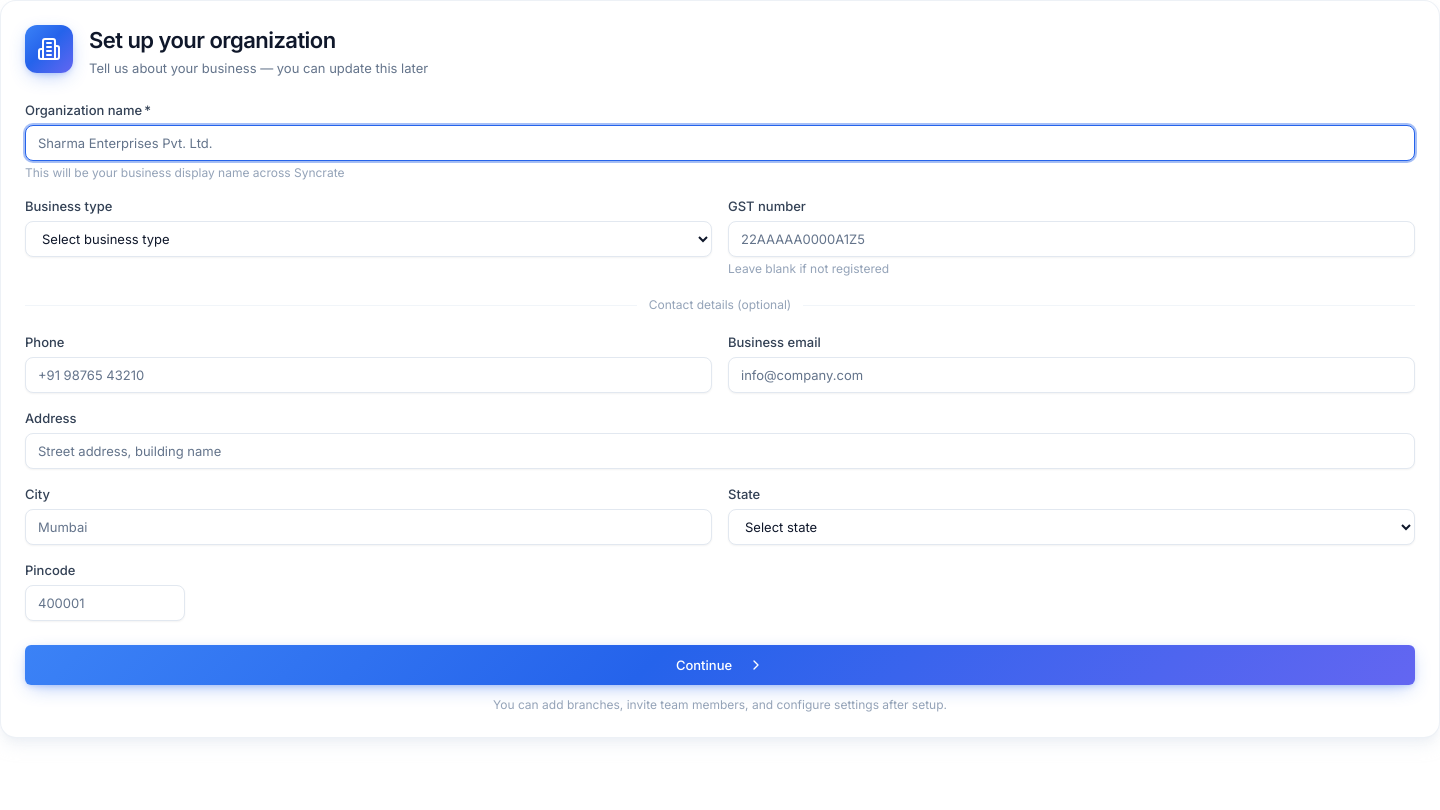
CreateOrganizationForm › shows a validation error and does not submit when the name is too short
The width and height of the screenshot is (1440, 810).
Type "A" into the field labelled "Organization name*" at point(720, 143), box [25,125,1415,161]
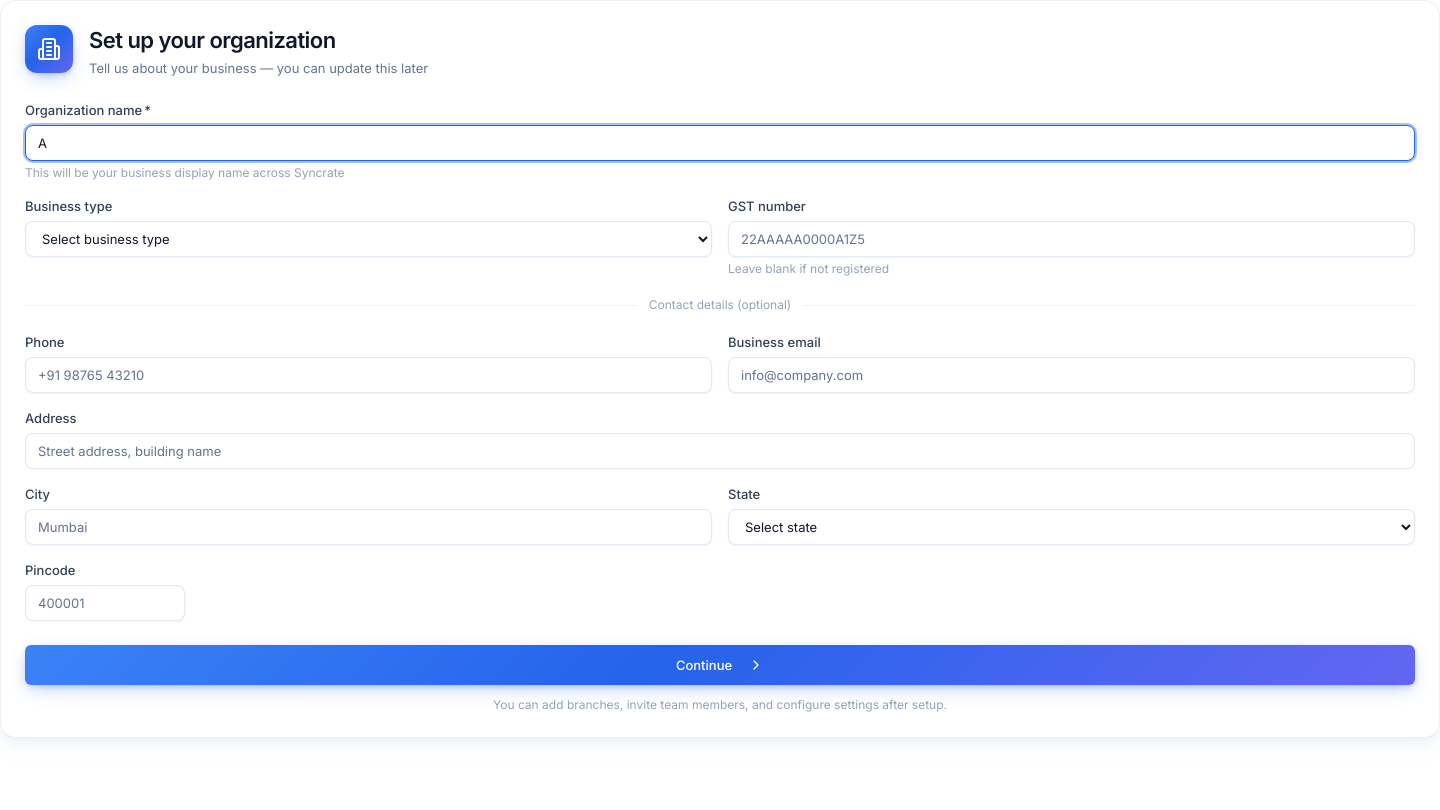
Click the button "Continue" at point(720, 665), box [25,645,1415,685]
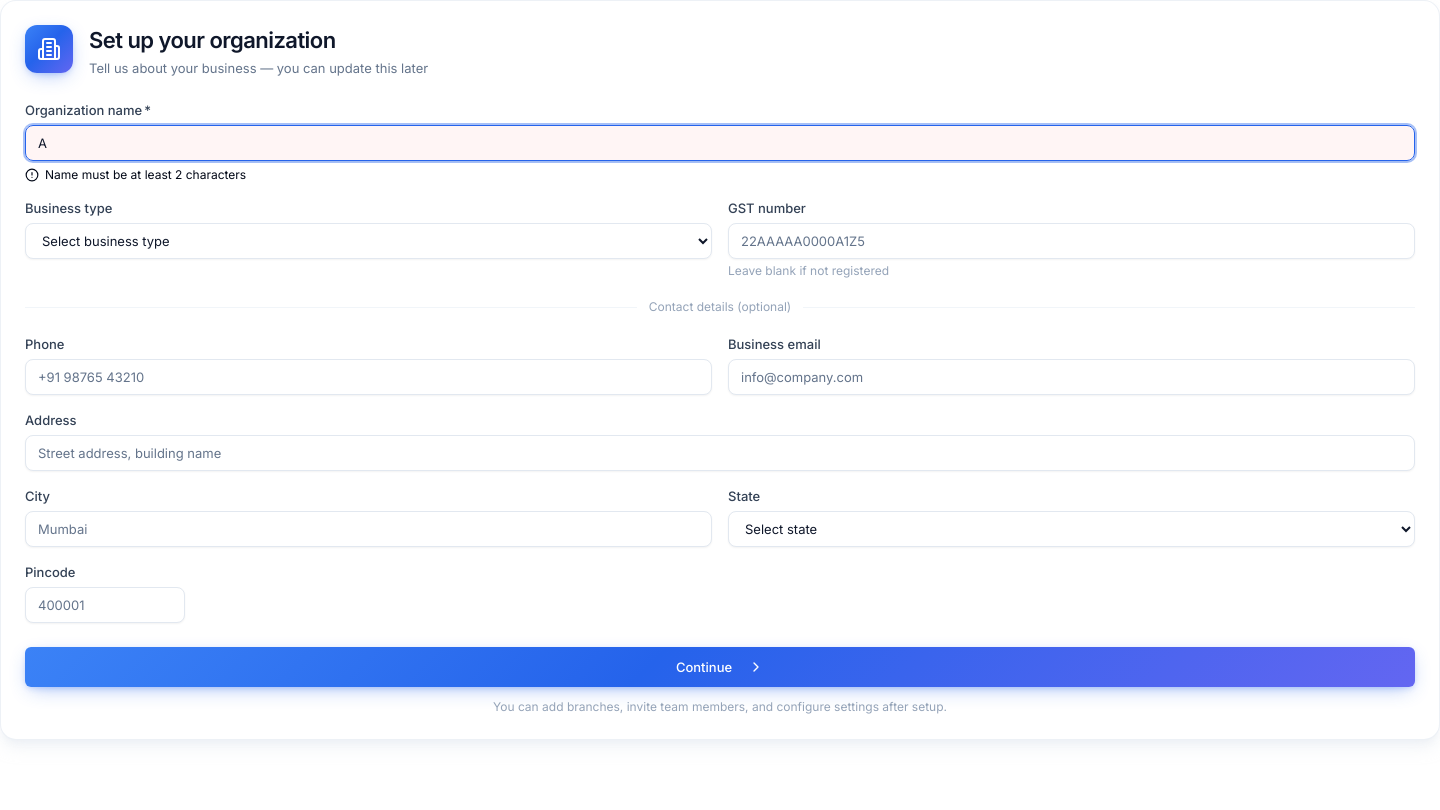
expect the text "Name must be at least 2 characters" is shown: met, box [25,167,246,182]
